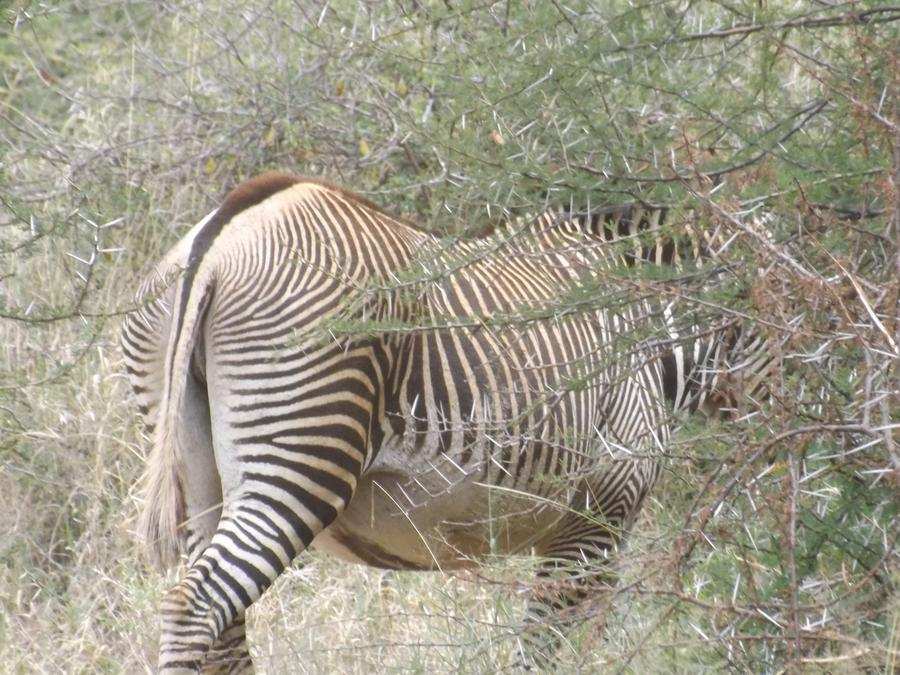zebra_grevys: (198, 161, 661, 536)
